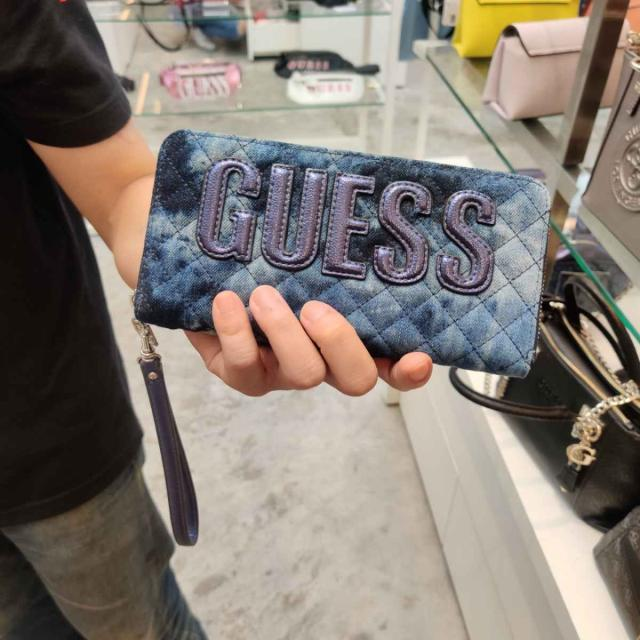Handbag: (134, 124, 549, 378)
